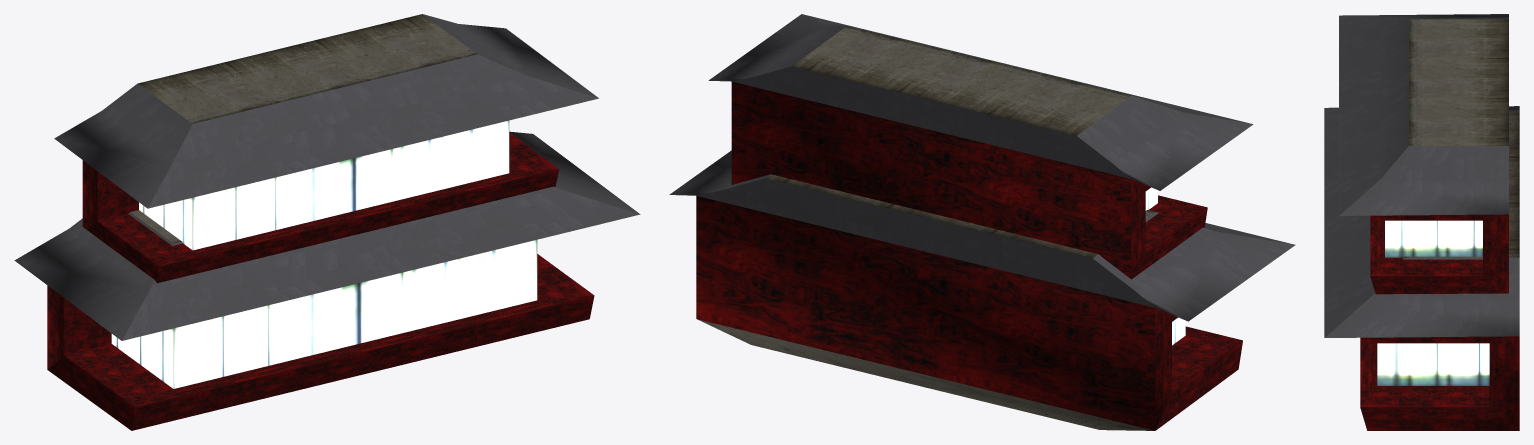
The model's file is Wall_Module_04.glb.
The picture shows the model from 3 angles, left to right: view 1: azimuth 30°, elevation 25°; view 2: azimuth 150°, elevation 25°; view 3: azimuth 270°, elevation 25°; orthographic projection. The views are drawn at different scales.
Parts seen in each view (by area): view 1: Wall_Module_04; view 2: Wall_Module_04; view 3: Wall_Module_04.
Boxes of the visible parts, <box> form: Wall_Module_04: <box>14,14,640,430</box>; Wall_Module_04: <box>669,14,1295,430</box>; Wall_Module_04: <box>1324,14,1519,430</box>.
Bounding box in the file's own units: 2.56 × 1.33 × 0.919.
1 material, 1 textured.
